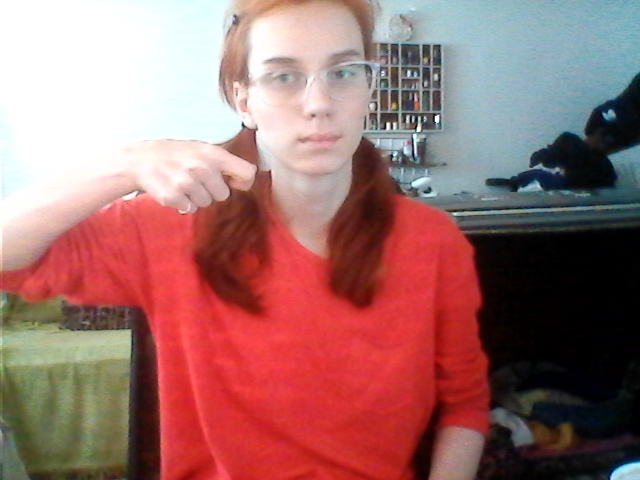jest: (151, 130, 322, 219)
